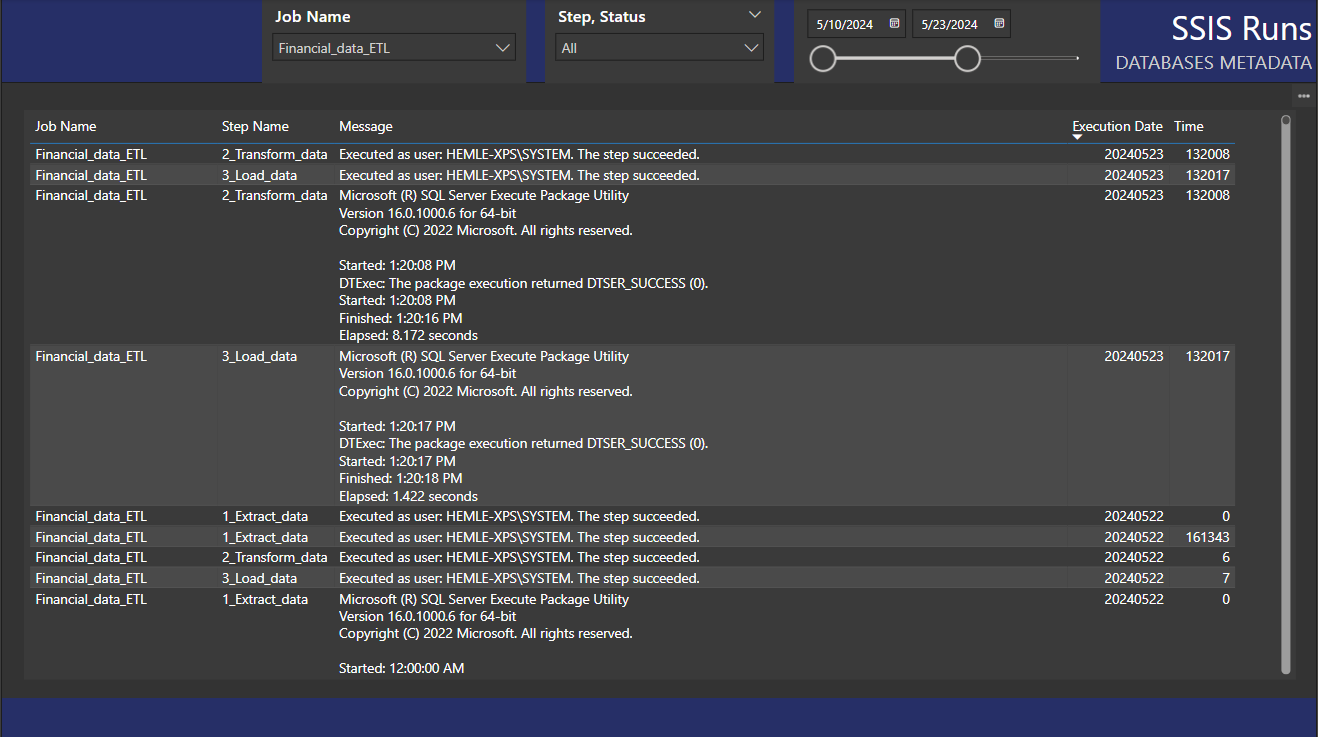

Layout of this report page (visuals, bound fields, positions):
{"tool":"powerbi","page":{"name":"Job runs","canvas":[1280,720],"ordinal":0},"visuals":[{"type":"group","id":"g1","title":"Bars","box":[0,0,1280,720],"z":0},{"type":"shape","title":"Top bar","box":[0,0,1280,81.7],"z":0,"group":"g1"},{"type":"textbox","title":"Title","box":[671.7,0,608.3,81.7],"z":1000},{"type":"shape","title":"Bottom bar","box":[0,680,1280,40],"z":1000,"group":"g1"},{"type":"tableEx","fields":{"Values":["api api_Jobs.Job_Name","powerbi Executions.Step_Name","powerbi Executions.Announcement","powerbi Executions.Execution_Date","powerbi Executions.Time_of_Execution"]},"box":[22.7,107.5,1237.1,554.2],"z":2000},{"type":"slicer","fields":{"Values":["api api_Jobs.Job_Name"]},"box":[253.7,0,256.7,81.7],"z":3000},{"type":"slicer","fields":{"Values":["powerbi Executions.Step_Name","powerbi Executions.Status_name"]},"box":[528.7,0,223.3,81.7],"z":4000},{"type":"slicer","fields":{"Values":["powerbi Executions.LOAD_DATE"]},"box":[771.7,0,298.3,81.7],"z":5000}]}

Visuals, with their boxes in screenshot pixels (x1, y1, x2, y2), scaled from the page's 1280x720 canvas onto the 1318x737 screenshot:
"Bars" group: x1=0 y1=0 x2=1317 y2=736
"Top bar" shape: x1=0 y1=0 x2=1317 y2=84
"Title" textbox: x1=692 y1=0 x2=1317 y2=84
"Bottom bar" shape: x1=0 y1=696 x2=1317 y2=736
tableEx - api api_Jobs.Job_Name x powerbi Executions.Step_Name: x1=23 y1=110 x2=1297 y2=677
slicer - api api_Jobs.Job_Name: x1=261 y1=0 x2=526 y2=84
slicer - powerbi Executions.Step_Name x powerbi Executions.Status_name: x1=544 y1=0 x2=774 y2=84
slicer - powerbi Executions.LOAD_DATE: x1=795 y1=0 x2=1102 y2=84
